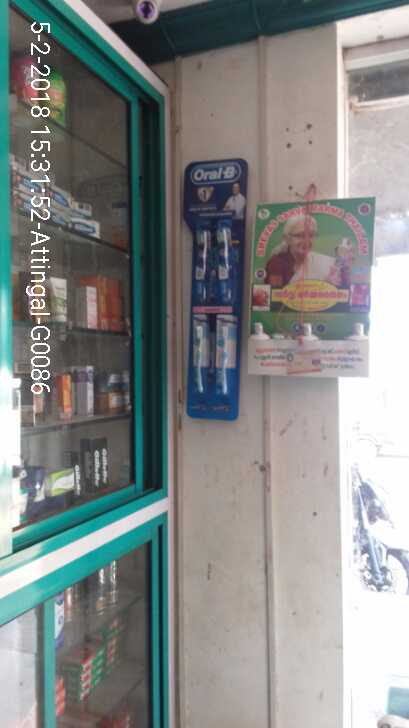oralb: (216, 316, 236, 394), (193, 227, 211, 304), (194, 309, 211, 388), (216, 225, 233, 302)
